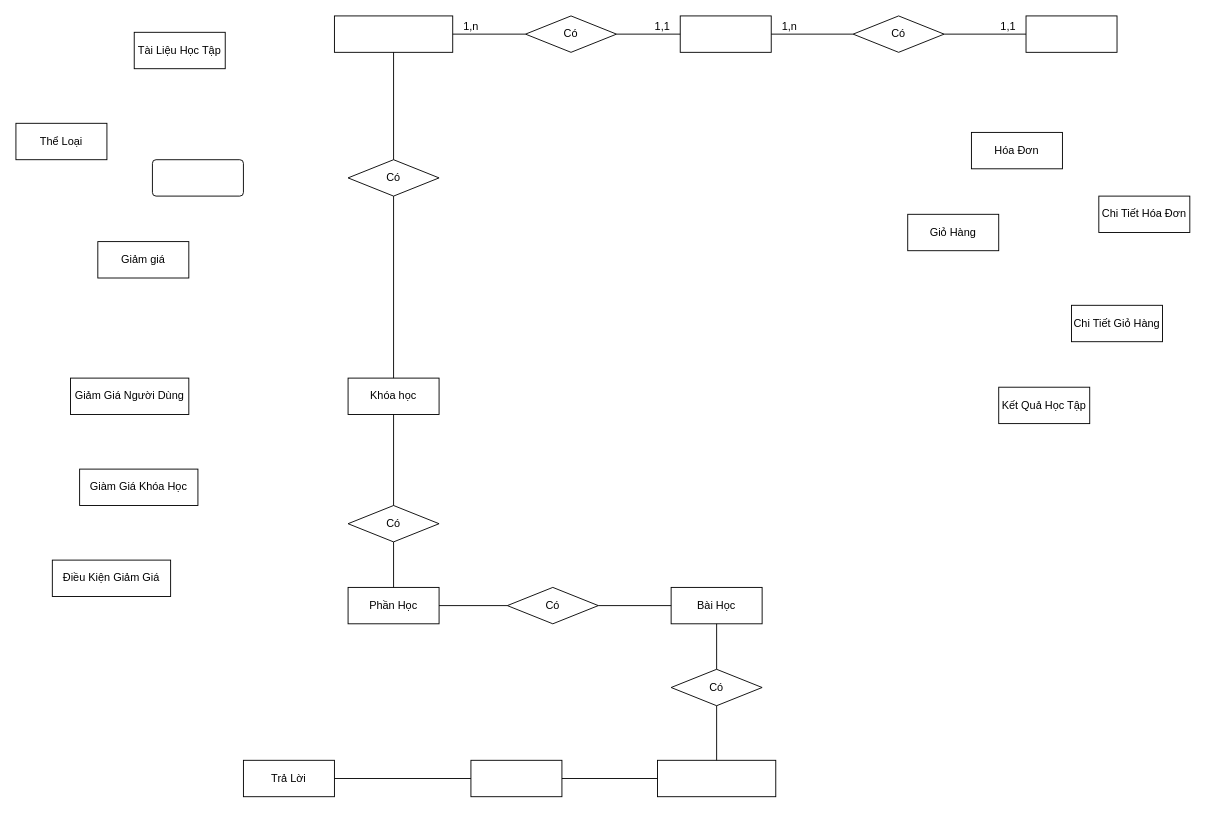
Image size: 1206x813. Some labels were removed from this diagram. The centre of each missing label's shape, as x and y in pixels:
Bài Tập Trắc Nghiem: the point at 716,778
Chi Tiết Thể Loại: the point at 197,177
Câu Hỏi: the point at 516,778
Giảng Viên Khóa Học: the point at 393,33
Quyền: the point at 1071,33
Tài Khoản: the point at 725,33
